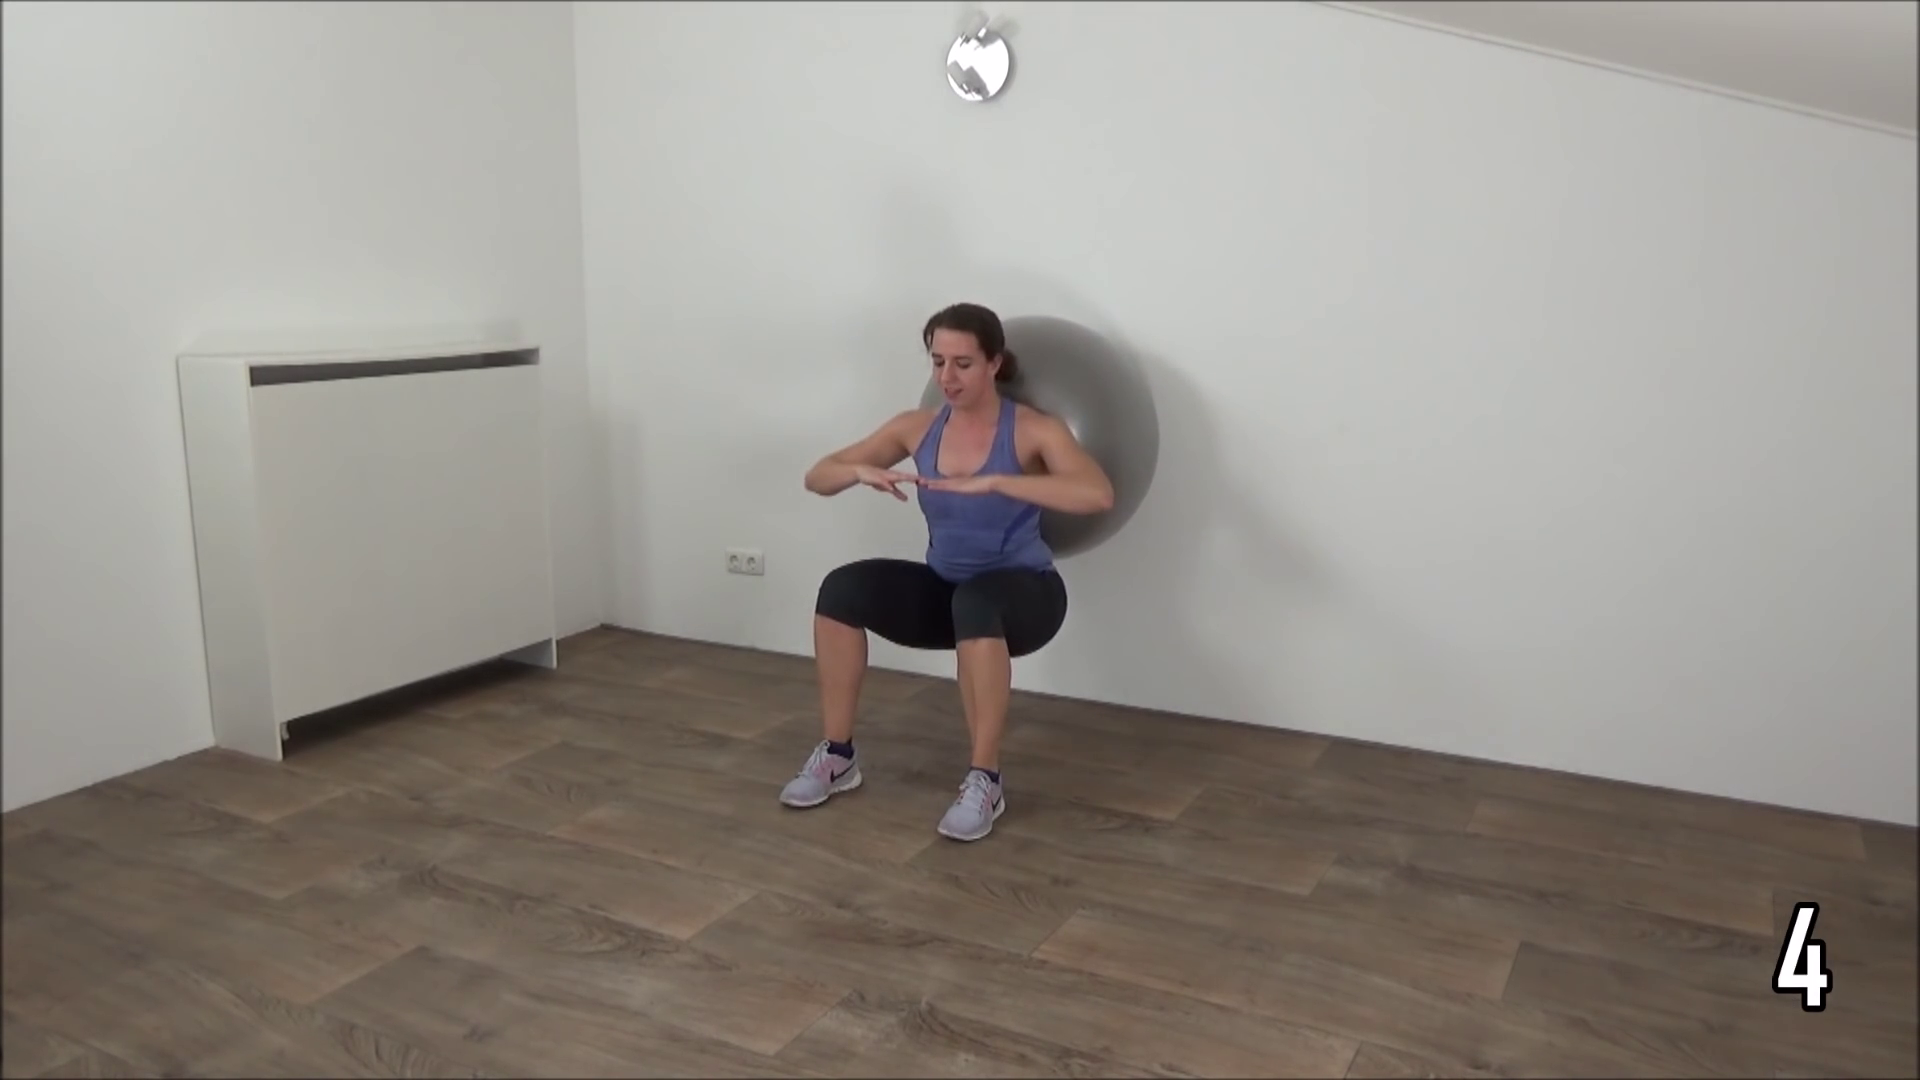yogaball: (911, 305, 1192, 562)
